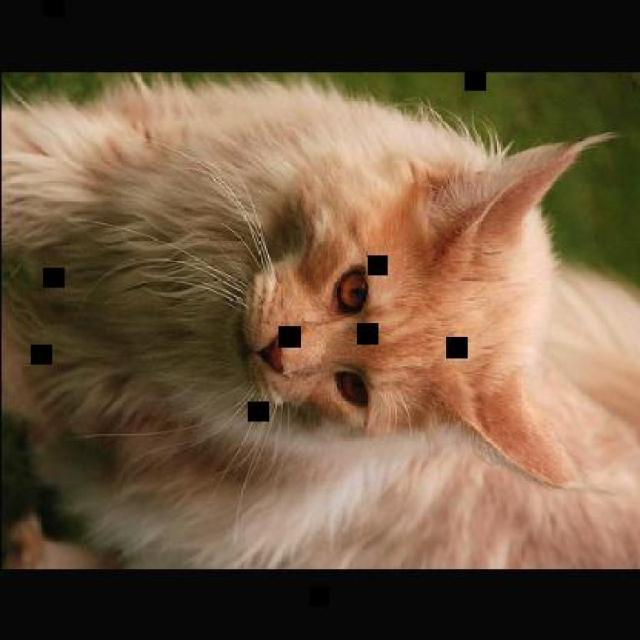unauthorized: (0, 70, 638, 569)
